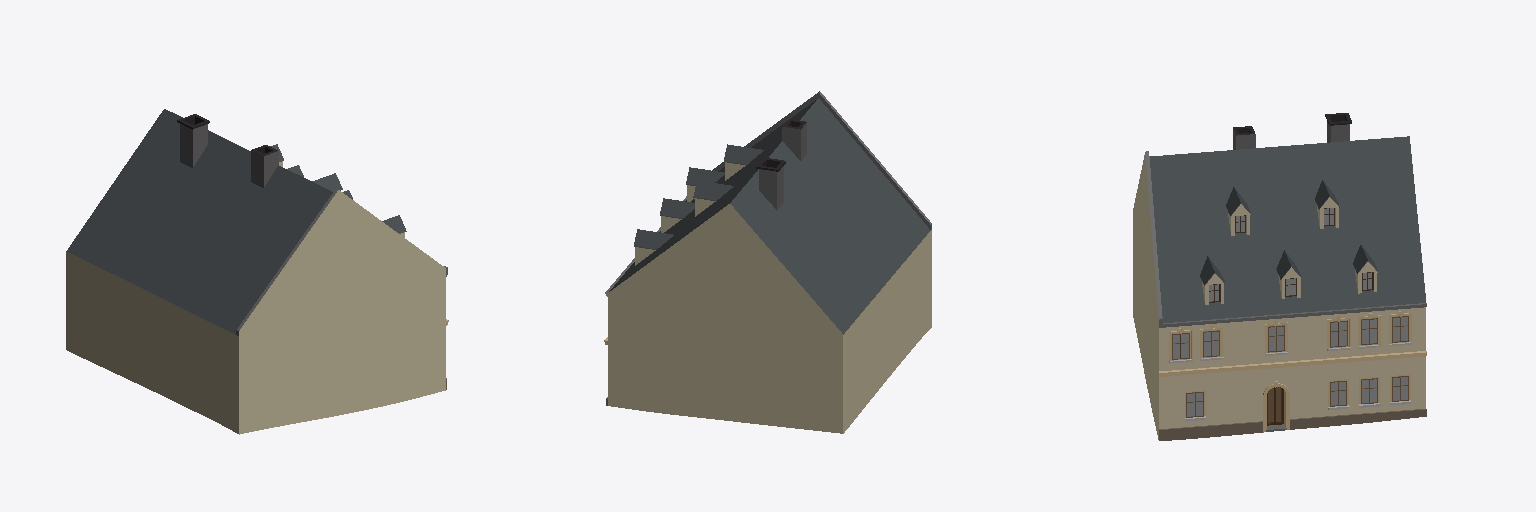
3 views of the same model, side by side, from view 1: azimuth 30°, elevation 25°; view 2: azimuth 150°, elevation 25°; view 3: azimuth 270°, elevation 25° (orthographic).
Parts seen in each view (by area): view 1: Model_Model.004; view 2: Model_Model.004; view 3: Model_Model.004.
Part boxes in pixels (left/top/right/bottom): Model_Model.004: left=66, top=109, right=448, bottom=434; Model_Model.004: left=604, top=91, right=931, bottom=433; Model_Model.004: left=1133, top=113, right=1426, bottom=440.
Size of the model in its own units: 1.56 by 1.37 by 1.5.